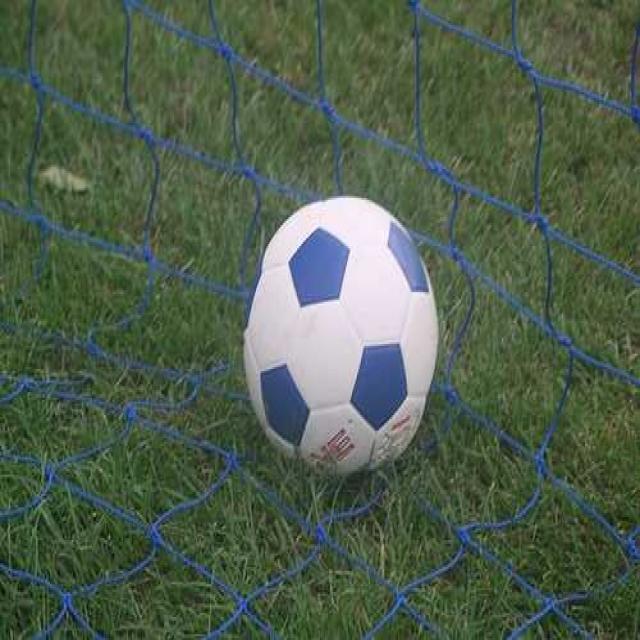ball: (244, 198, 439, 480)
